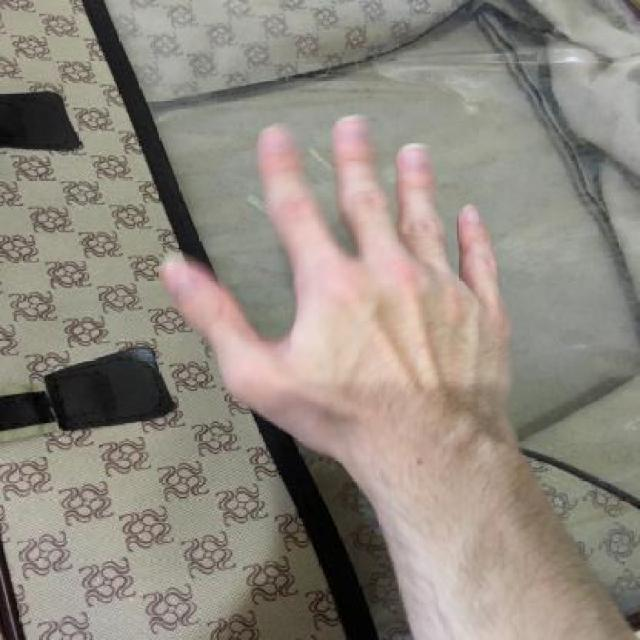no_glove: (132, 95, 533, 483)
